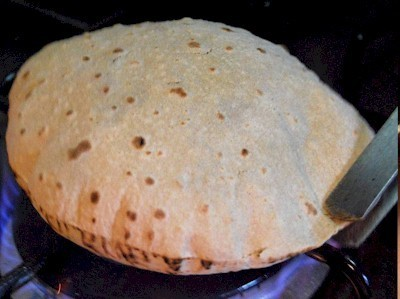roti: (10, 19, 370, 217)
